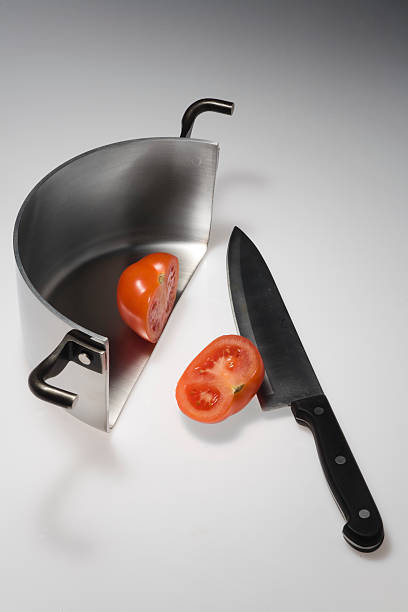knife: (224, 221, 387, 556)
